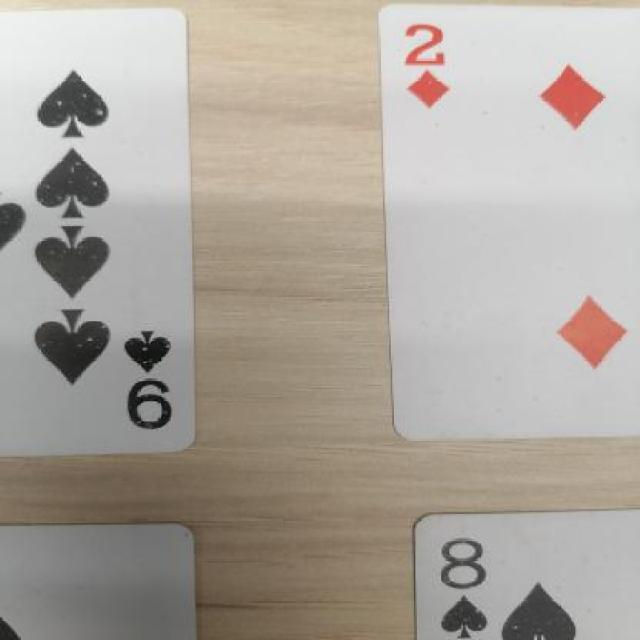2D: (400, 20, 474, 112)
8S: (431, 523, 509, 640)
9S: (120, 306, 178, 462)
